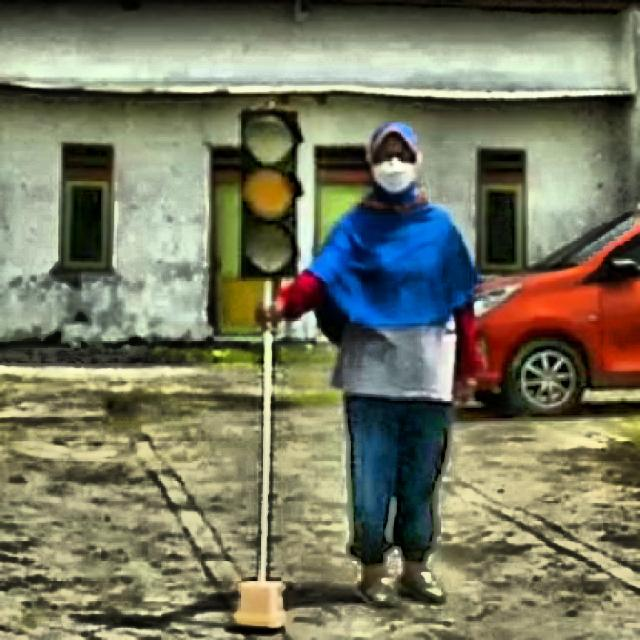yellow: (237, 108, 301, 282)
